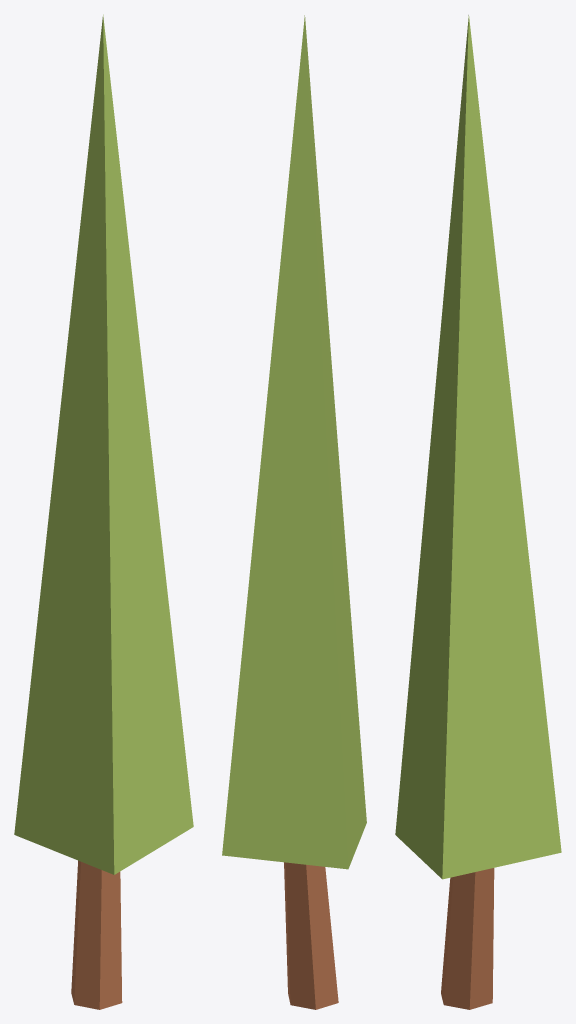
The model's file is Tree_6.fbx.
3 views of the same model, side by side, from view 1: azimuth 30°, elevation 25°; view 2: azimuth 150°, elevation 25°; view 3: azimuth 270°, elevation 25° (orthographic).
Visible parts, largest first — view 1: Cone.005; view 2: Cone.005; view 3: Cone.005.
Part boxes in pixels (box(x1,y1,x2,y2)): Cone.005: box(14, 14, 193, 1009); Cone.005: box(222, 15, 366, 1009); Cone.005: box(395, 15, 561, 1009).
Size of the model in its own units: 99.27 by 649 by 98.96.
